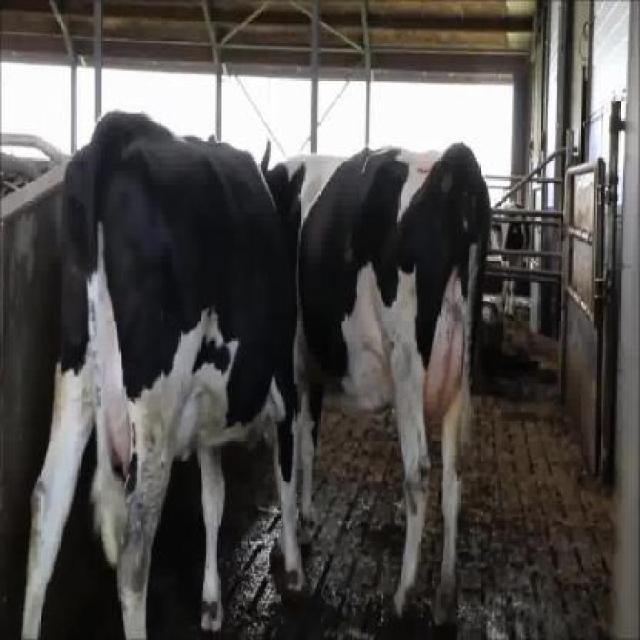Cow: (18, 110, 310, 638), (257, 138, 491, 638)
